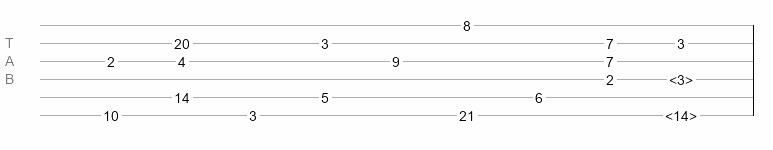10: (103, 108, 119, 118)
14: (174, 90, 190, 100)
2: (107, 54, 115, 64), (606, 72, 614, 82)
20: (174, 36, 190, 46)
21: (459, 108, 475, 118)
3: (249, 108, 257, 118), (321, 36, 329, 46), (677, 36, 685, 46)
4: (178, 54, 186, 64)
5: (321, 90, 329, 100)
6: (535, 90, 543, 100)
7: (606, 36, 614, 46), (606, 54, 614, 64)
8: (463, 18, 471, 28)
9: (392, 54, 400, 64)
harmonic: (665, 108, 697, 118), (669, 72, 693, 82)
